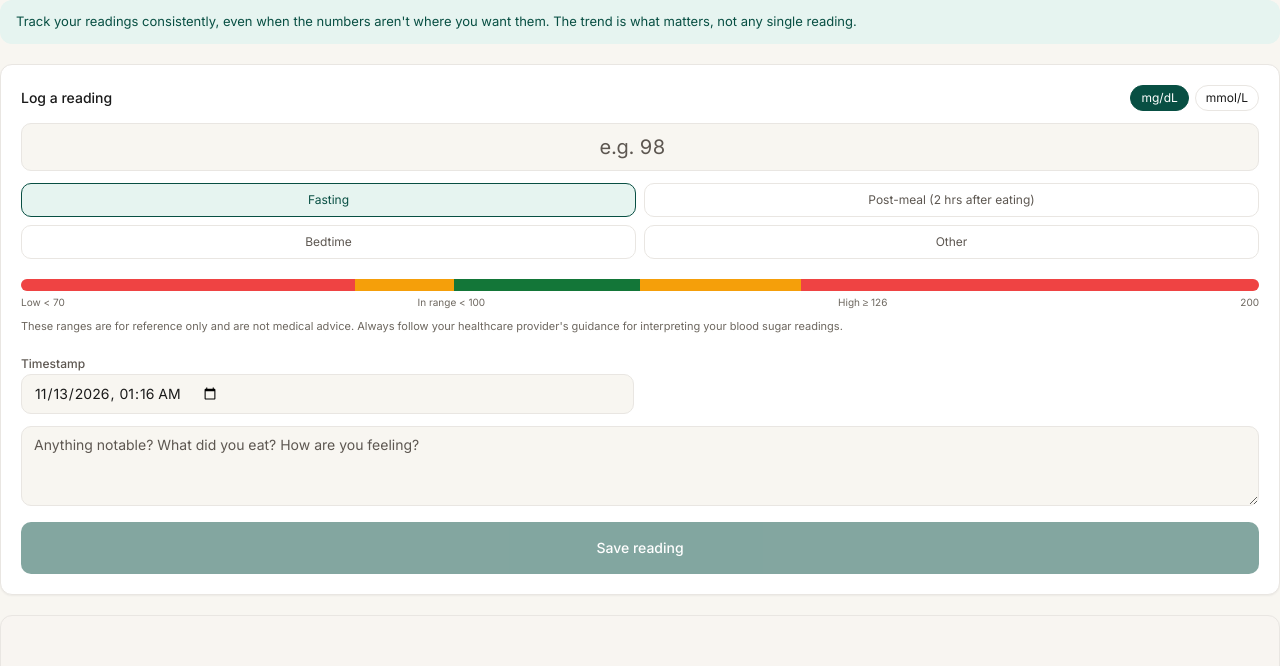
Test: BloodSugarTab, newly entered readings › uses the urgent-low copy below 54
Type "45" into the number field with placeholder "e.g. 98".
click(640, 146); type("45")  # box x1=21 y1=122 x2=1259 y2=170
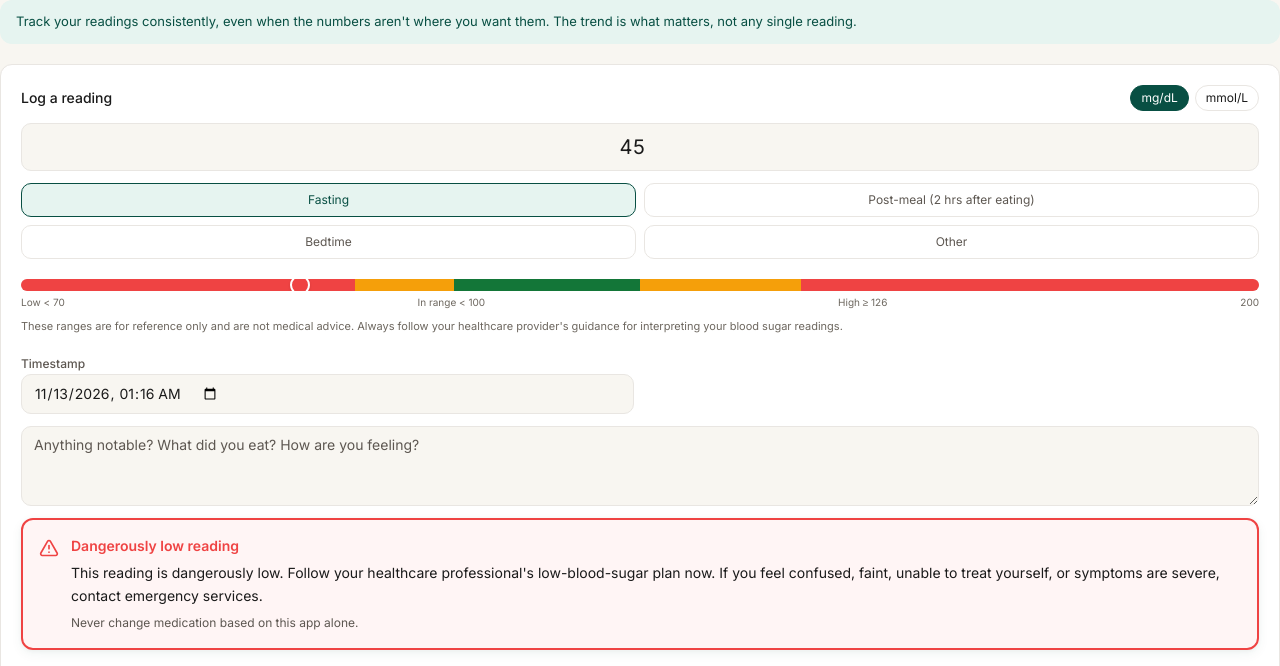
Check: the message shows "This reading is dangerously low. Follow your healthcare professional's low-blood-sugar plan now. If you feel confused, faint, unable to treat yourself, or sympt", box x1=71 y1=564 x2=1220 y2=604
Check: the message shows "Never change medication based on this app alone.", box x1=71 y1=614 x2=358 y2=630
